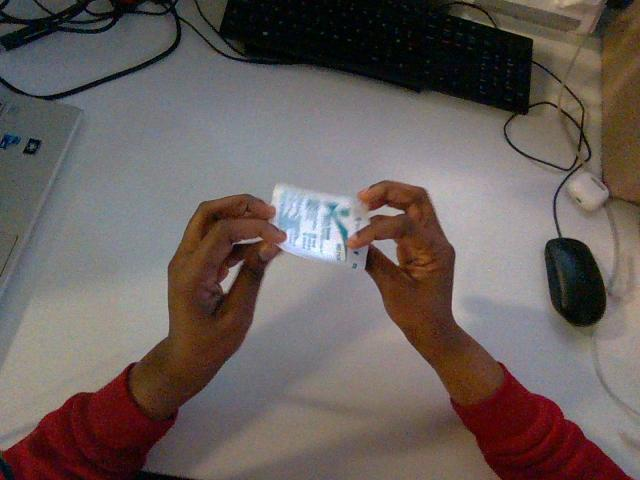gauze: (272, 184, 368, 269)
